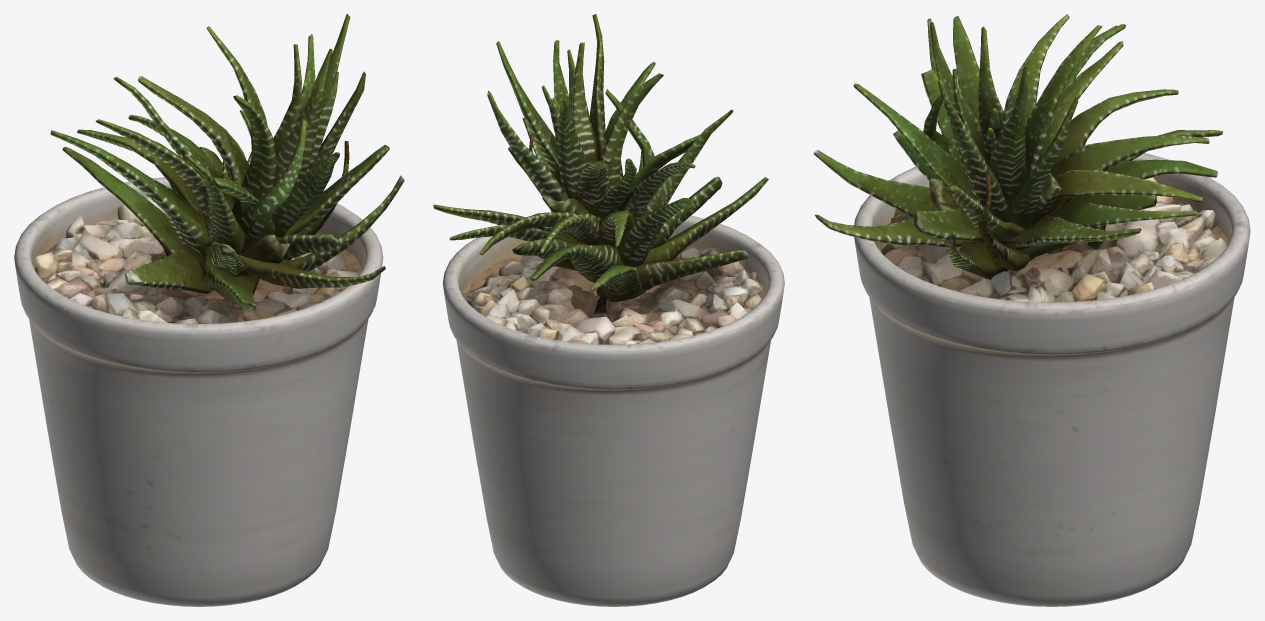
File: potted_plant_04.glb
3 renders of one model, left to right at view 1: azimuth 30°, elevation 25°; view 2: azimuth 150°, elevation 25°; view 3: azimuth 270°, elevation 25°, orthographic. The views are drawn at different scales.
Visible parts, largest first — view 1: potted_plant_04_ground; view 2: potted_plant_04_ground; view 3: potted_plant_04_ground.
Part boxes in pixels (x1,y1,x2,y2): potted_plant_04_ground: (14,14,404,606); potted_plant_04_ground: (433,14,784,606); potted_plant_04_ground: (813,14,1250,606).
Size of the model in its own units: 0.1679 by 0.2675 by 0.1847.
1 material, 1 textured.
